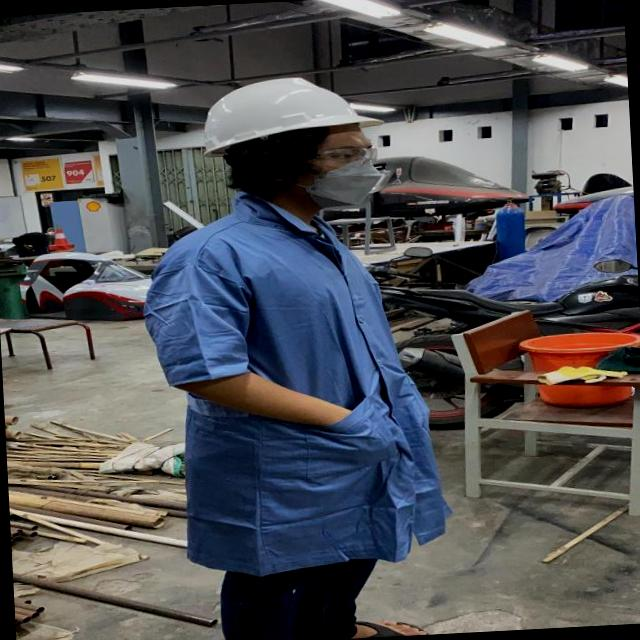helmet: (191, 68, 394, 160)
